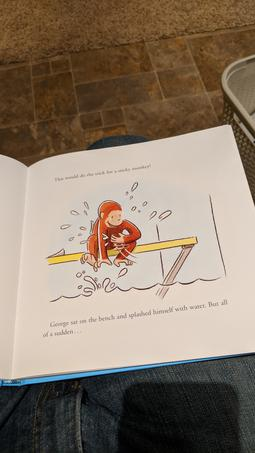text block: (36, 299, 240, 337), (50, 159, 159, 177)
